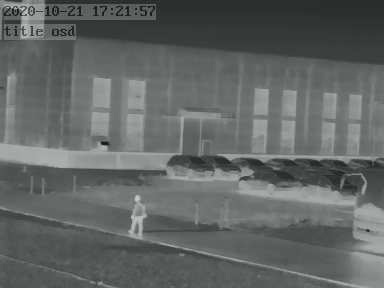person: (128, 193, 145, 236)
vehicle: (301, 170, 357, 199), (239, 169, 300, 194), (165, 153, 212, 178), (205, 153, 242, 177), (232, 154, 270, 171), (344, 156, 379, 172), (262, 155, 296, 170), (320, 156, 353, 170), (296, 155, 325, 169)
